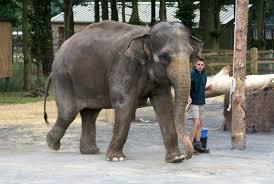elephant: (44, 20, 200, 161)
